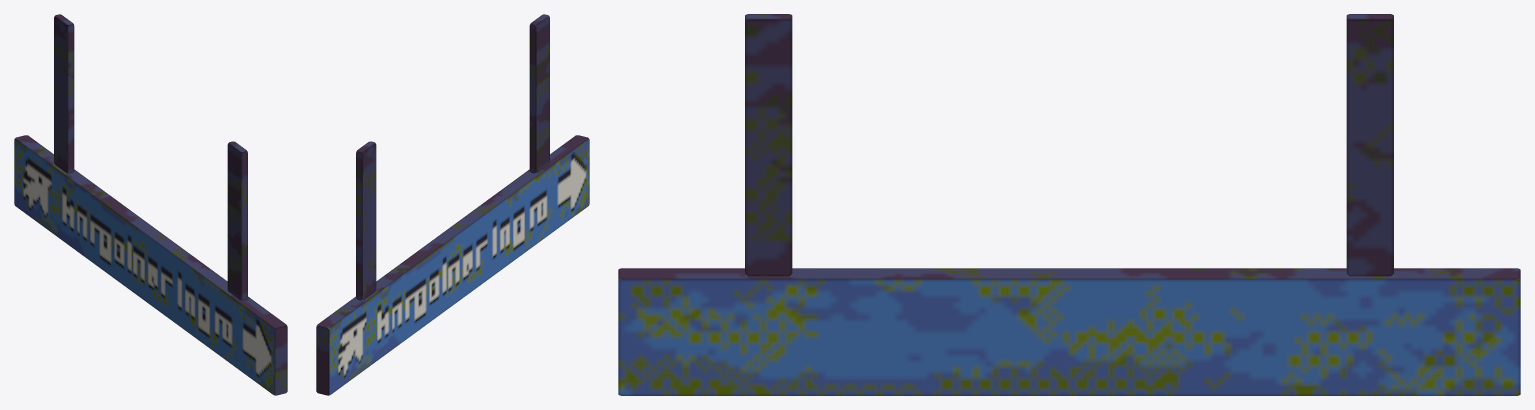
The model's file is PlacqueTop.fbx.
3 renders of one model, left to right at view 1: azimuth 30°, elevation 25°; view 2: azimuth 150°, elevation 25°; view 3: azimuth 270°, elevation 25°, orthographic. The views are drawn at different scales.
Parts seen in each view (by area): view 1: PlacqueTop; view 2: PlacqueTop; view 3: PlacqueTop.
Part boxes in pixels (<box>): PlacqueTop: <box>14,14,287,395</box>; PlacqueTop: <box>316,14,589,395</box>; PlacqueTop: <box>618,14,1520,395</box>.
Bounding box in the file's own units: 6.25 × 100 × 219.
Materials: 1 (1 with a texture image).
